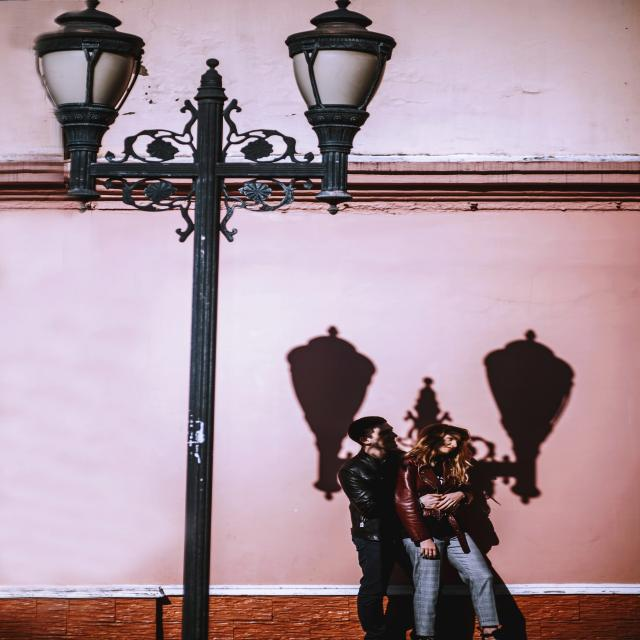adult: (394, 422, 502, 640), (338, 415, 406, 640)
